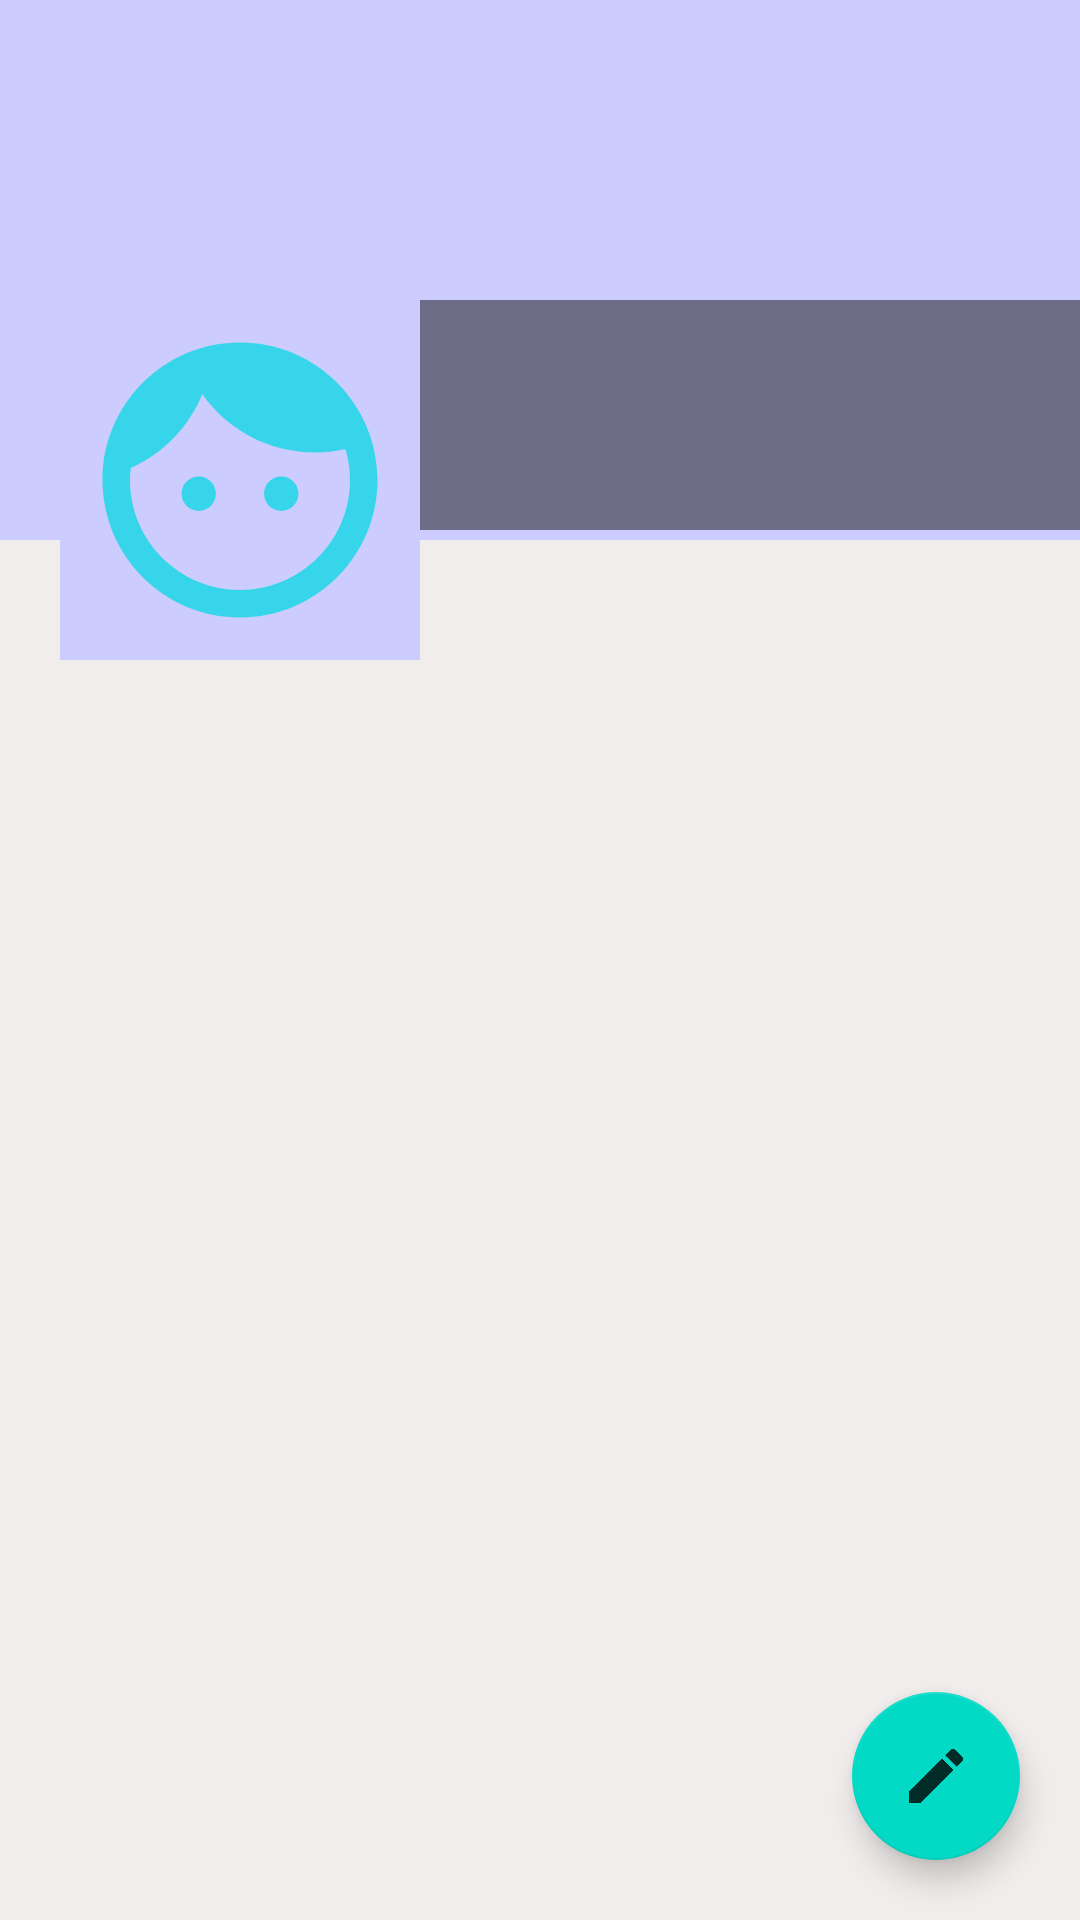

Screen size 1080 × 1920. Icon name, then its box in pixels as (x1, y1, x2, y2):
edit: (852, 1692, 1020, 1860)
